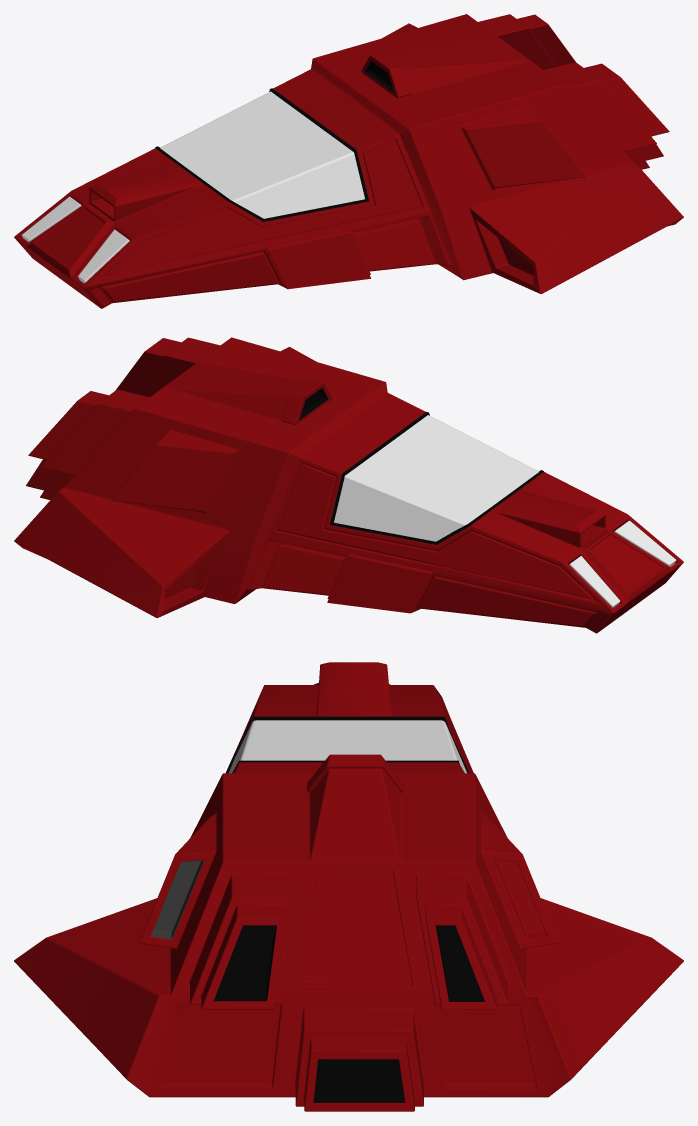
Rendered from NaveTest.fbx.
3 views of the same model, one above another, from view 1: azimuth 30°, elevation 25°; view 2: azimuth 150°, elevation 25°; view 3: azimuth 270°, elevation 25° (orthographic). The views are drawn at different scales.
Parts seen in each view (by area): view 1: Cube, Cube.001, Plastico; view 2: Cube, Cube.001, Plastico; view 3: Cube, Cube.001, Plastico.
Part boxes in pixels (x1=…): Cube: x1=14, y1=14, x2=683, y2=308; Cube.001: x1=160, y1=91, x2=364, y2=218; Plastico: x1=155, y1=88, x2=369, y2=221; Cube: x1=14, y1=337, x2=683, y2=633; Cube.001: x1=334, y1=415, x2=539, y2=541; Plastico: x1=330, y1=412, x2=543, y2=544; Cube: x1=14, y1=662, x2=683, y2=1111; Cube.001: x1=229, y1=720, x2=466, y2=773; Plastico: x1=226, y1=716, x2=468, y2=773.
Size of the model in its own units: 1966 by 513 by 1464.
